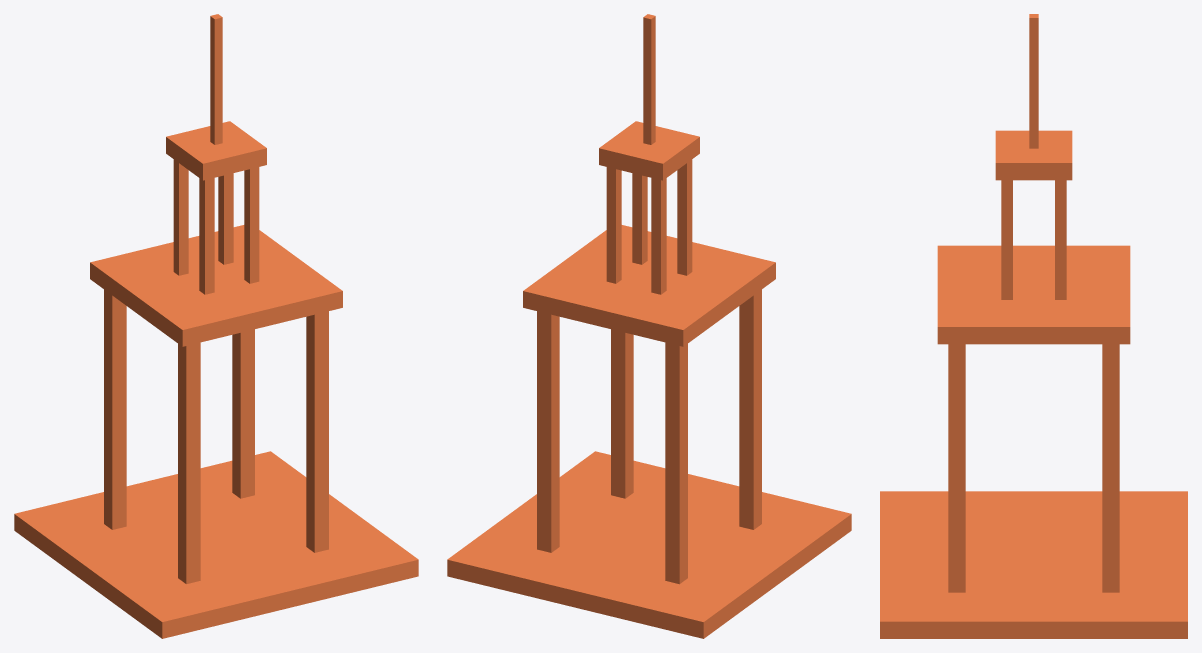
The model's file is device-test.glb.
3 renders of one model, left to right at view 1: azimuth 30°, elevation 25°; view 2: azimuth 150°, elevation 25°; view 3: azimuth 270°, elevation 25°, orthographic. The views are drawn at different scales.
Visible parts, largest first — view 1: fixture-base-0, fixture-deck-1, fixture-column-5, fixture-column-7, fixture-column-4, fixture-top-2, fixture-column-6, fixture-upper-9, fixture-upper-11, fixture-upper-8, fixture-mast-3, fixture-upper-10; view 2: fixture-base-0, fixture-deck-1, fixture-column-4, fixture-column-6, fixture-column-5, fixture-top-2, fixture-column-7, fixture-upper-8, fixture-upper-10, fixture-upper-9, fixture-mast-3, fixture-upper-11; view 3: fixture-base-0, fixture-deck-1, fixture-column-6, fixture-column-7, fixture-top-2, fixture-upper-10, fixture-upper-11, fixture-mast-3.
Part boxes in pixels (x1=…): fixture-base-0: x1=14, y1=451, x2=418, y2=638; fixture-deck-1: x1=90, y1=225, x2=342, y2=346; fixture-column-5: x1=178, y1=342, x2=200, y2=584; fixture-column-7: x1=306, y1=311, x2=328, y2=552; fixture-column-4: x1=104, y1=289, x2=126, y2=529; fixture-top-2: x1=166, y1=121, x2=266, y2=180; fixture-column-6: x1=232, y1=329, x2=254, y2=498; fixture-upper-9: x1=199, y1=178, x2=214, y2=294; fixture-upper-11: x1=244, y1=167, x2=259, y2=283; fixture-upper-8: x1=173, y1=159, x2=188, y2=275; fixture-mast-3: x1=210, y1=14, x2=222, y2=144; fixture-upper-10: x1=218, y1=173, x2=233, y2=264; fixture-base-0: x1=447, y1=451, x2=851, y2=638; fixture-deck-1: x1=523, y1=225, x2=775, y2=346; fixture-column-4: x1=665, y1=342, x2=687, y2=584; fixture-column-6: x1=537, y1=311, x2=559, y2=552; fixture-column-5: x1=739, y1=289, x2=761, y2=529; fixture-top-2: x1=599, y1=121, x2=699, y2=180; fixture-column-7: x1=611, y1=329, x2=633, y2=498; fixture-upper-8: x1=651, y1=178, x2=666, y2=294; fixture-upper-10: x1=606, y1=167, x2=621, y2=283; fixture-upper-9: x1=677, y1=159, x2=692, y2=275; fixture-mast-3: x1=643, y1=14, x2=655, y2=144; fixture-upper-11: x1=632, y1=173, x2=647, y2=264; fixture-base-0: x1=880, y1=491, x2=1187, y2=638; fixture-deck-1: x1=937, y1=245, x2=1130, y2=344; fixture-column-6: x1=1102, y1=344, x2=1119, y2=592; fixture-column-7: x1=948, y1=344, x2=965, y2=592; fixture-top-2: x1=995, y1=130, x2=1072, y2=180; fixture-upper-10: x1=1055, y1=180, x2=1066, y2=299; fixture-upper-11: x1=1001, y1=180, x2=1012, y2=299; fixture-mast-3: x1=1029, y1=14, x2=1038, y2=148.
Bounding box in the file's own units: 8 × 16 × 8.
